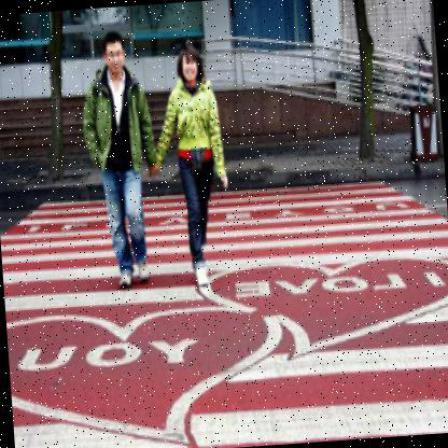wheel: (76, 30, 164, 284), (146, 44, 236, 291)
